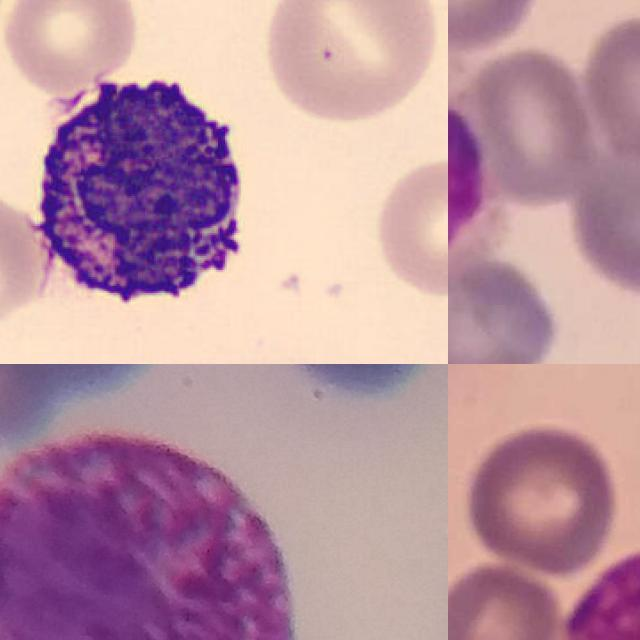Basophil: (17, 57, 261, 335), (0, 436, 295, 640)
Neutrophil: (448, 23, 496, 330)
RBC: (255, 0, 445, 127), (0, 0, 141, 99), (367, 148, 448, 303), (0, 187, 51, 328)
